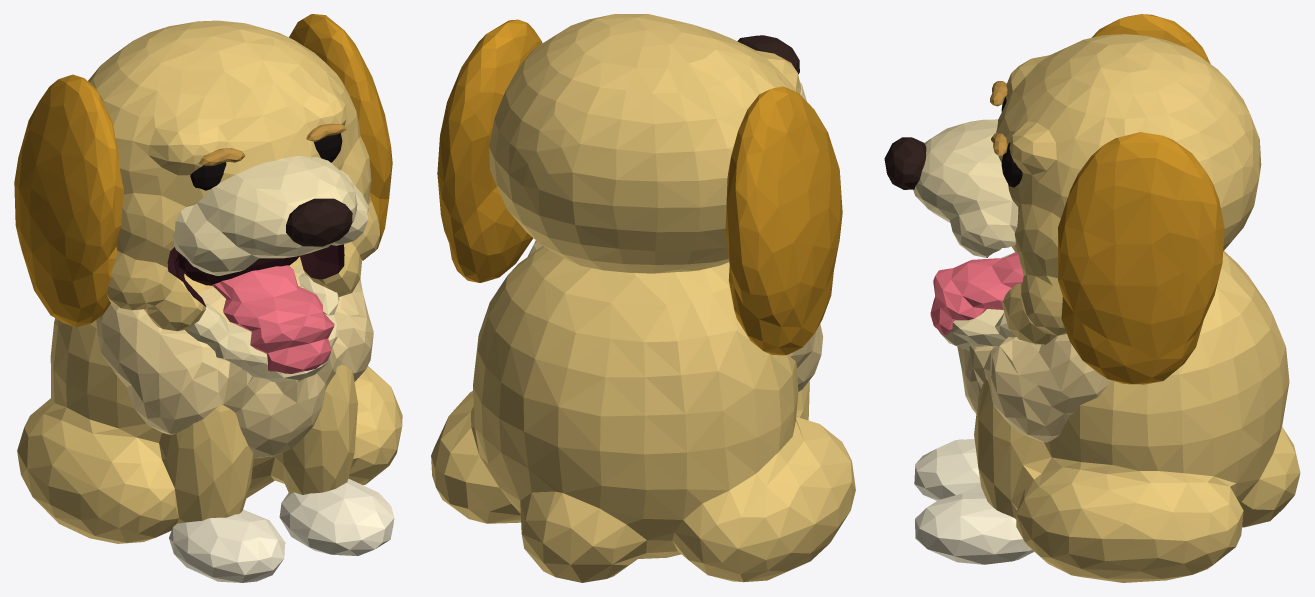
File: joey2.glb
3 renders of one model, left to right at view 1: azimuth 30°, elevation 25°; view 2: azimuth 150°, elevation 25°; view 3: azimuth 270°, elevation 25°, orthographic. The views are drawn at different scales.
Visible parts, largest first — view 1: Joey_Head, Joey_Body, Joey_EarL, Joey_Ruff, Joey_Muzzle, Joey_Paws, Joey_Tongue, Joey_EarR, Joey_Jaw, Joey_Nose, Joey_Mouth, Joey_Brows (+2 smaller); view 2: Joey_Body, Joey_Head, Joey_EarL, Joey_EarR, Joey_Ruff, Joey_Nose; view 3: Joey_Body, Joey_Head, Joey_EarR, Joey_Ruff, Joey_Muzzle, Joey_Paws, Joey_Tongue, Joey_EarL, Joey_Jaw, Joey_Nose, Joey_Brows.
Part boxes in pixels (box(x1,y1,x2,y2)): Joey_Head: box(88, 20, 379, 331); Joey_Body: box(17, 256, 402, 543); Joey_EarL: box(14, 74, 124, 327); Joey_Ruff: box(96, 264, 373, 458); Joey_Muzzle: box(172, 156, 368, 275); Joey_Paws: box(169, 478, 394, 582); Joey_Tongue: box(212, 265, 334, 373); Joey_EarR: box(289, 14, 392, 260); Joey_Jaw: box(185, 273, 339, 381); Joey_Nose: box(286, 198, 352, 246); Joey_Mouth: box(178, 253, 299, 285); Joey_Brows: box(199, 123, 346, 165); Joey_Body: box(431, 246, 855, 582); Joey_Head: box(489, 14, 800, 273); Joey_EarL: box(725, 86, 842, 355); Joey_EarR: box(437, 19, 542, 282); Joey_Ruff: box(528, 240, 822, 391); Joey_Nose: box(737, 35, 799, 74); Joey_Body: box(974, 251, 1300, 582); Joey_Head: box(996, 34, 1261, 344); Joey_EarR: box(1058, 132, 1224, 384); Joey_Ruff: box(957, 334, 1110, 442); Joey_Muzzle: box(913, 119, 1018, 257); Joey_Paws: box(914, 439, 1033, 564); Joey_Tongue: box(930, 251, 1023, 335); Joey_EarL: box(1091, 14, 1210, 63); Joey_Jaw: box(938, 252, 1016, 350); Joey_Nose: box(884, 137, 926, 189); Joey_Brows: box(990, 81, 1007, 155).
Bounding box in the file's own units: 1.78 × 2.36 × 1.88.
